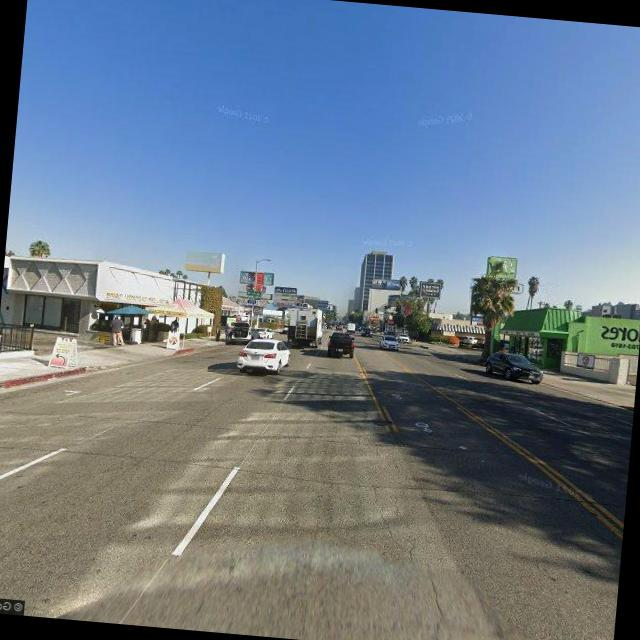pothole: (420, 569, 460, 640)
